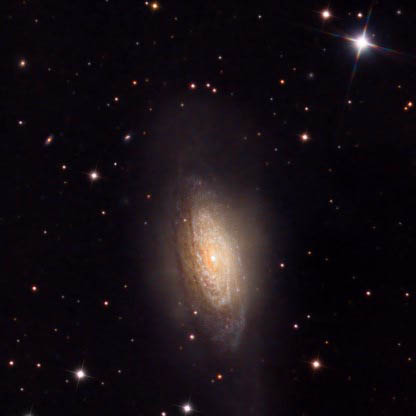NGC 3521: (74, 118, 339, 390)
